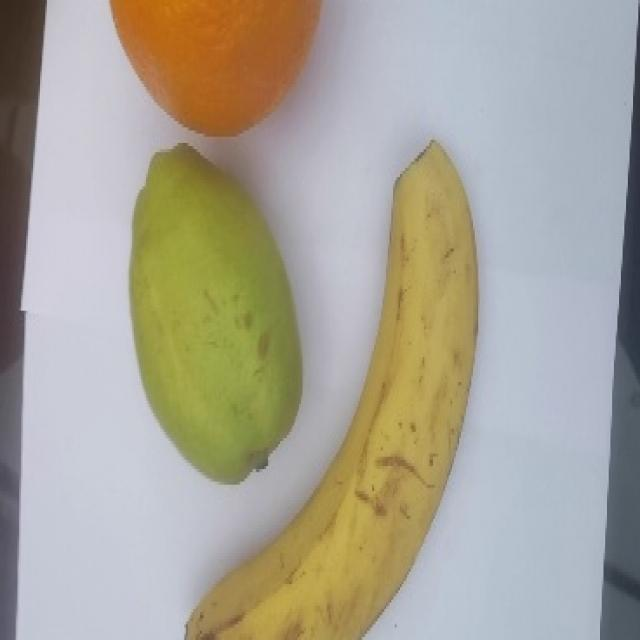Banana: (180, 136, 483, 640)
Orange: (105, 0, 329, 138)
